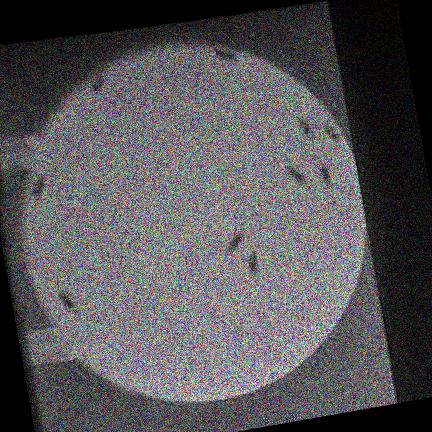fly: (287, 165, 308, 186), (58, 289, 76, 310), (228, 230, 244, 252), (32, 175, 45, 200), (215, 47, 237, 61), (248, 249, 258, 276), (320, 164, 332, 186), (297, 116, 311, 133), (325, 123, 338, 140), (93, 73, 106, 90)
